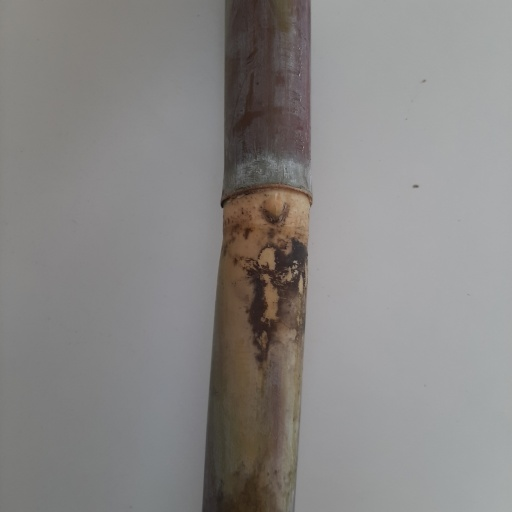Bud: (259, 190, 291, 224)
